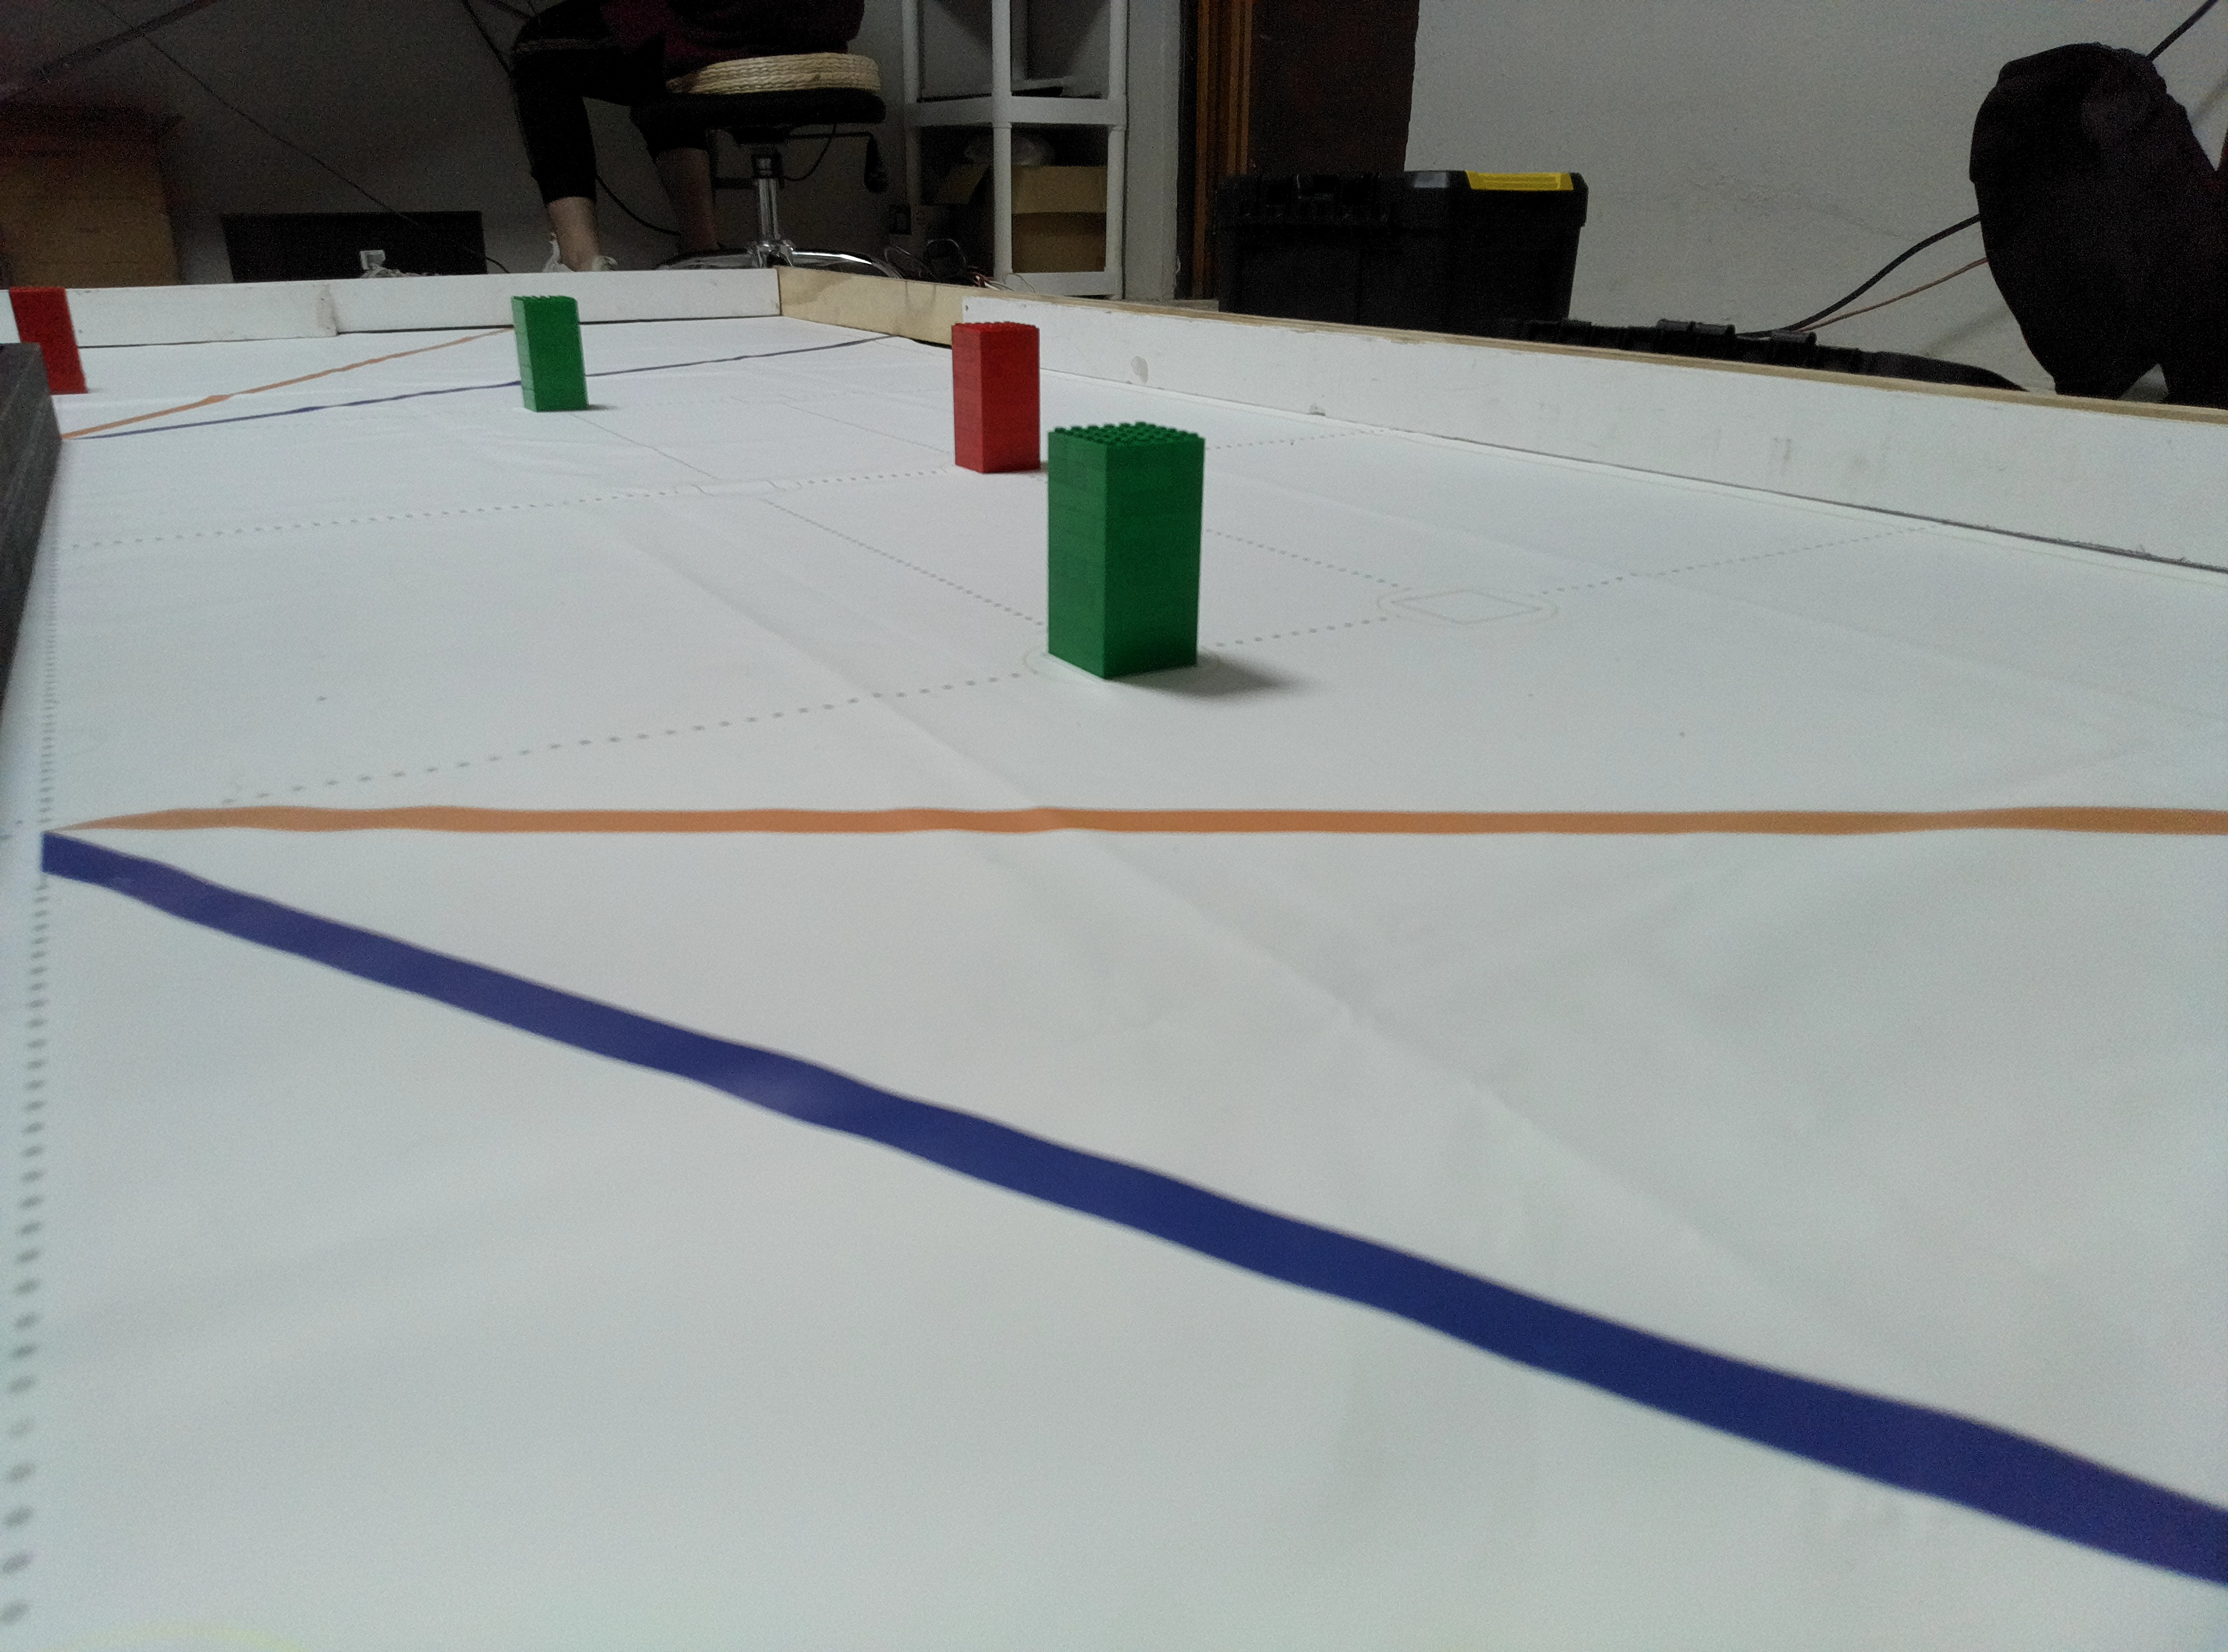greenbox: (1052, 416, 1204, 682), (503, 297, 588, 416)
redbox: (946, 321, 1045, 472), (3, 281, 95, 397)
